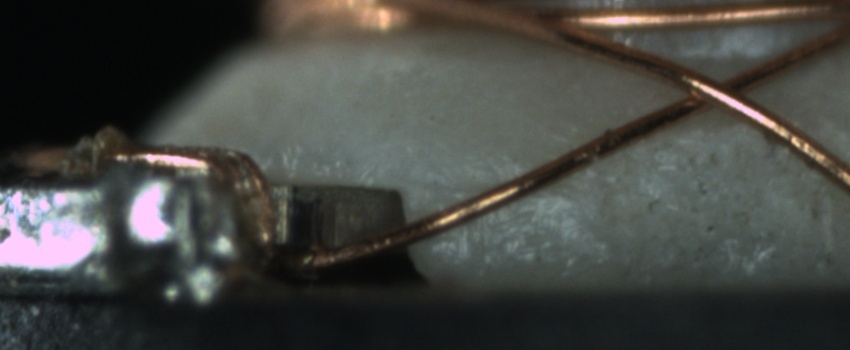CL: (675, 64, 768, 117)
DL: (402, 166, 565, 208)
TE: (28, 132, 291, 272)
